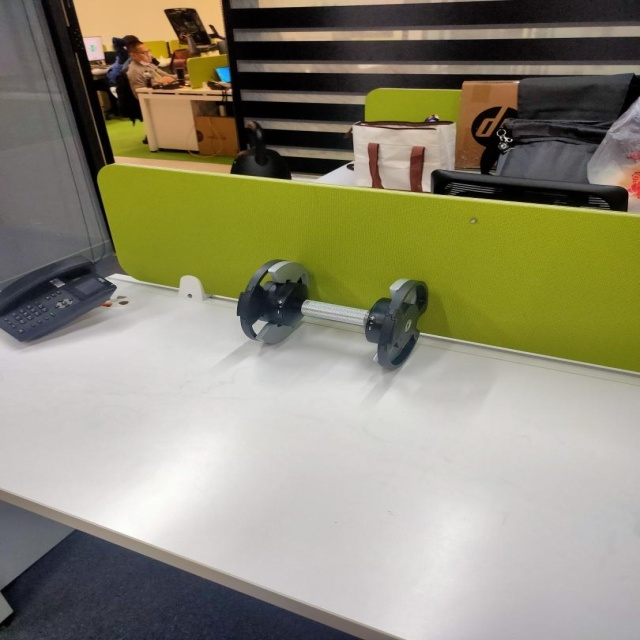02-4kg: (235, 258, 432, 371)
